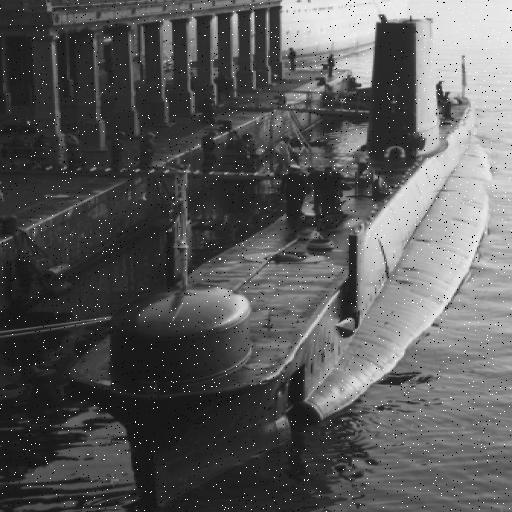submarine: (68, 2, 512, 512)
